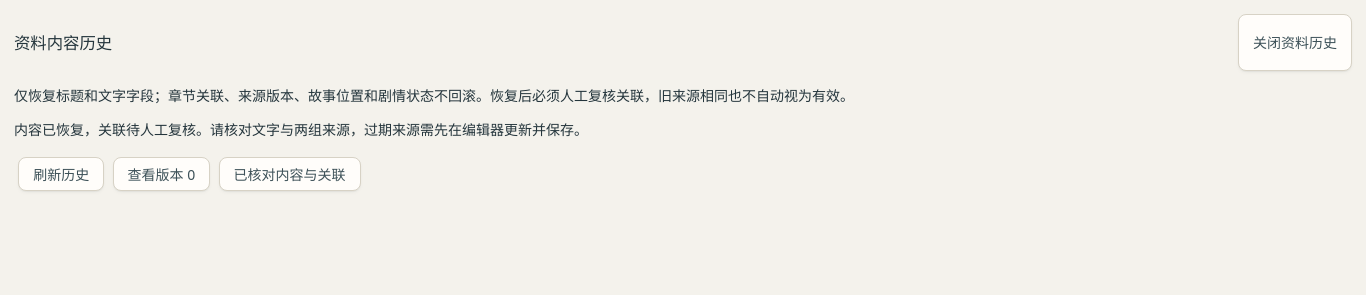
it: acknowledgement is explicit and cannot repeat or close while pending
The width and height of the screenshot is (1366, 295).
What coordinates should you click on to do the following:
click the button "已核对内容与关联"
I would click on:
 (290, 174)
Its box is [219,157,361,191].
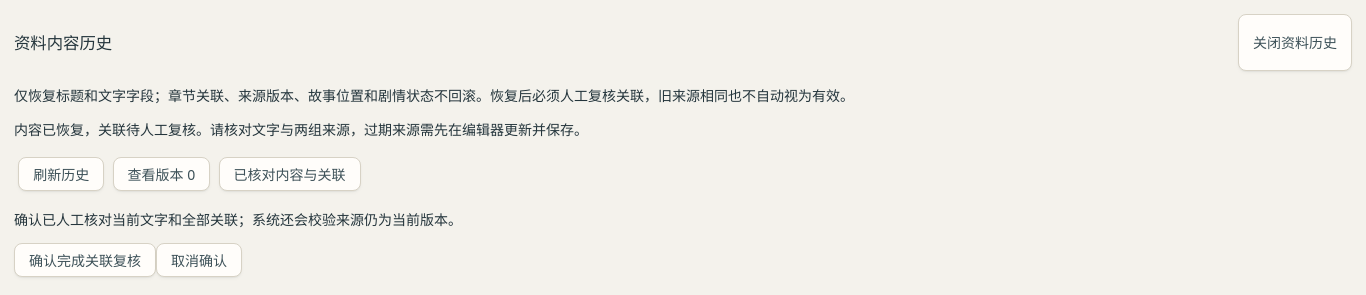
What coordinates should you click on to do the following:
click the button "确认完成关联复核"
I would click on:
 (85, 260)
Its box is [14,243,156,277].
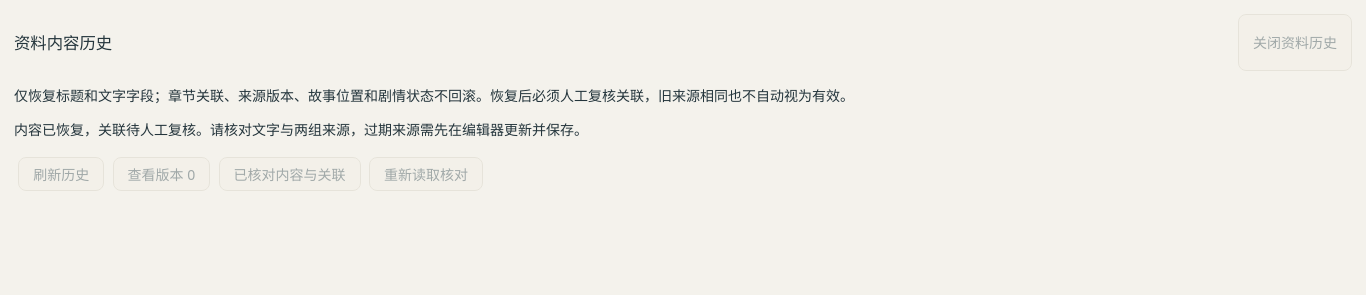
What coordinates should you click on to do the following:
click the button "关闭资料历史"
I would click on:
 (1295, 42)
Its box is [1238,14,1352,71].
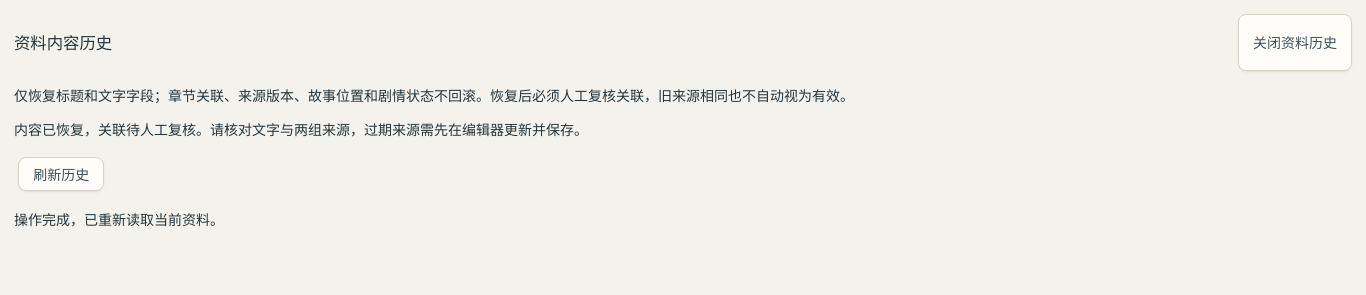
Check: the text "操作完成，已重新读取当前资料。" is shown, box [14,210,224,229]
